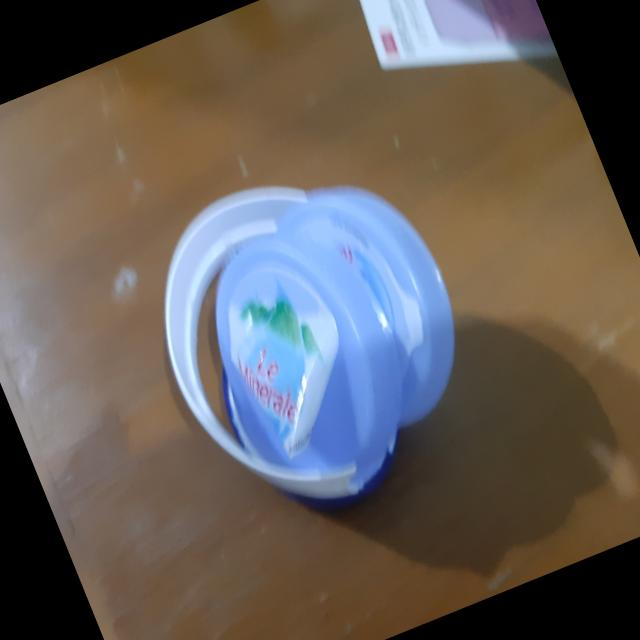TutupGalon: (116, 128, 509, 548)
